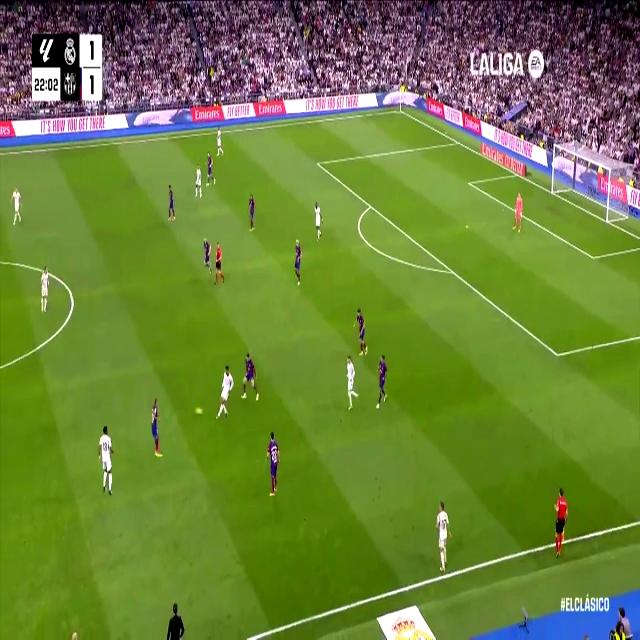bigarea_bottom_inner: (552, 342, 562, 366)
bigarea_top_inner: (315, 156, 321, 169)
bottom_arc_area_intersection: (447, 262, 456, 279)
corner: (396, 105, 404, 115)
smallarea_bottom_inner: (589, 249, 597, 266)
smallarea_top_inner: (466, 176, 472, 188)
top_arc_area_intersection: (367, 198, 374, 212)
